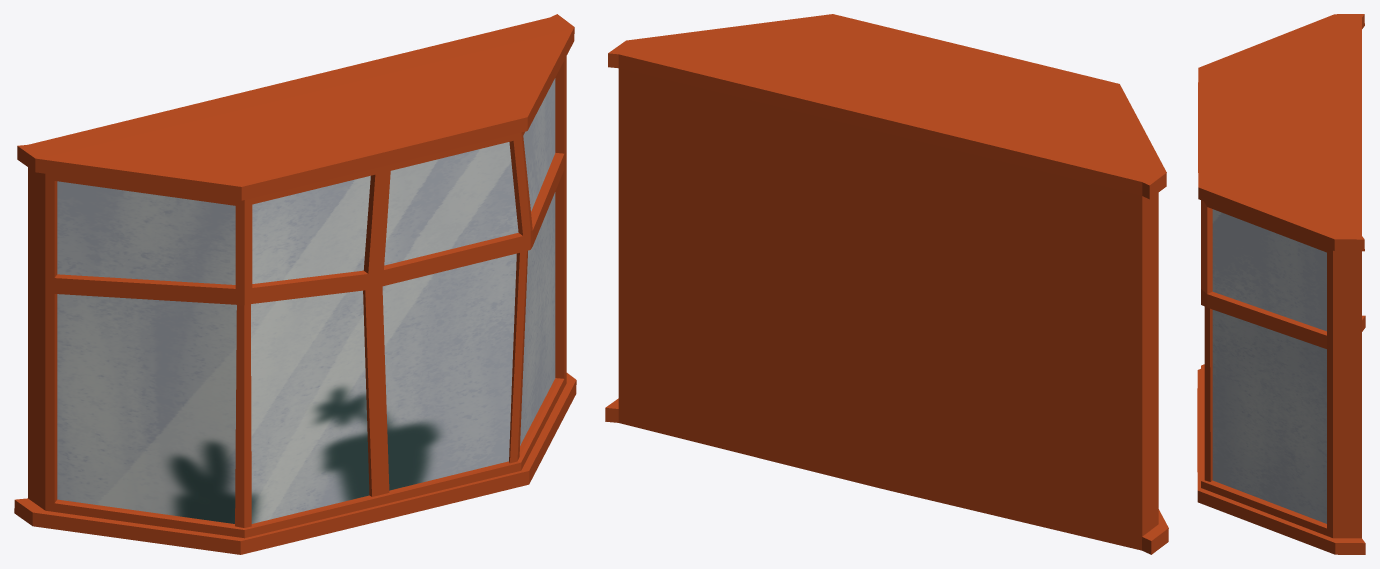
The model's file is Window8.fbx.
3 views of the same model, side by side, from view 1: azimuth 30°, elevation 25°; view 2: azimuth 150°, elevation 25°; view 3: azimuth 270°, elevation 25° (orthographic). The views are drawn at different scales.
Visible parts, largest first — view 1: Cylinder.001; view 2: Cylinder.001; view 3: Cylinder.001.
Part boxes in pixels (box(x1,y1,x2,y2)): Cylinder.001: box(14, 14, 576, 554); Cylinder.001: box(605, 14, 1168, 554); Cylinder.001: box(1197, 14, 1365, 554).
Size of the model in its own units: 195 by 126 by 60.86.
